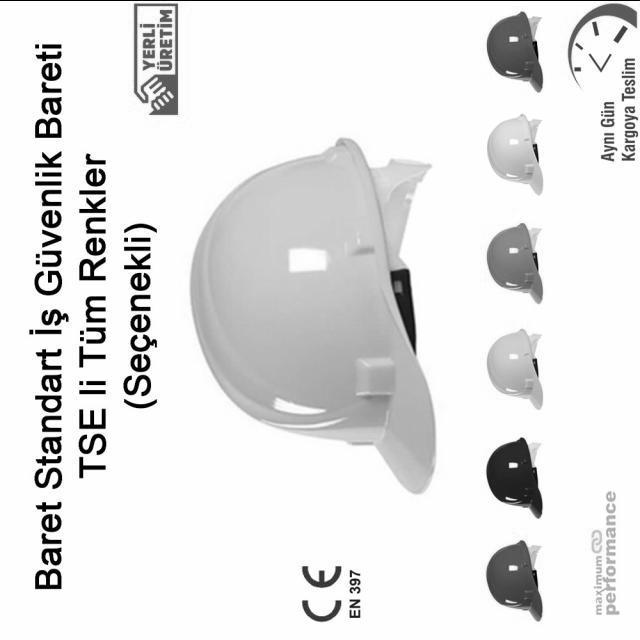safety_helmet: (191, 135, 439, 495)
